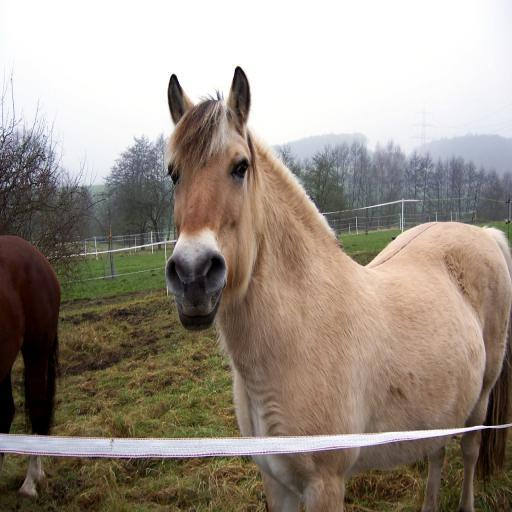Horse: (164, 72, 512, 512), (0, 235, 62, 497)
